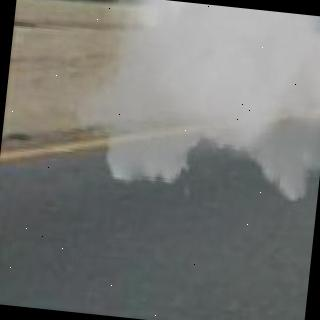smoke: (61, 0, 320, 228)
